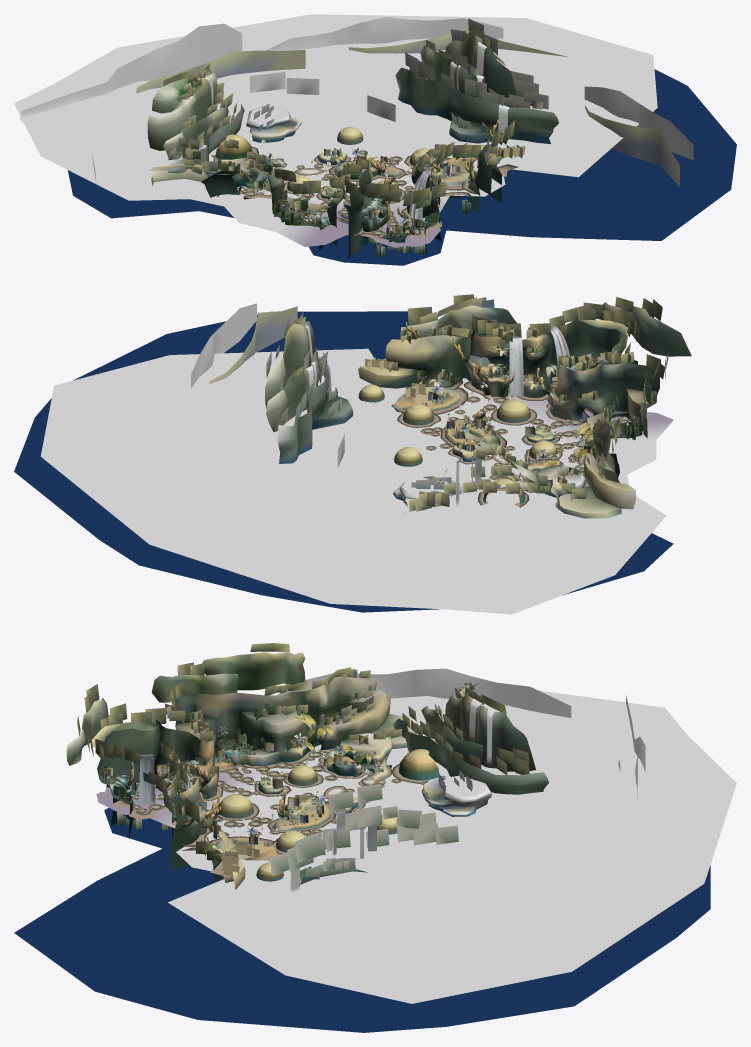
File: DJAct2.gltf
The picture shows the model from 3 angles, top to bottom: view 1: azimuth 30°, elevation 25°; view 2: azimuth 150°, elevation 25°; view 3: azimuth 270°, elevation 25°; orthographic projection. The views are drawn at different scales.
Parts seen in each view (by area): view 1: stg021_w_Mesh_0, stg021_o_Mesh_45, stg021_o_Mesh_16, stg021_p_Mesh_245, stg021_p_Mesh_171, stg021_ripple_k_Mesh_3, stg021_p_Mesh_122, stg021_falls_w_Mesh_6, stg021_o_Mesh_11, stg021_p_Mesh_138, stg021_p_Mesh_11, stg021_o_Mesh_27 (+8 smaller); view 2: stg021_w_Mesh_0, stg021_o_Mesh_16, stg021_o_Mesh_45, stg021_p_Mesh_171, stg021_p_Mesh_245, stg021_ripple_k_Mesh_3, stg021_falls_w_Mesh_6, stg021_o_Mesh_11, stg021_p_Mesh_11, stg021_o_Mesh_4, stg021_p_Mesh_138, stg021_p_Mesh_247 (+4 smaller); view 3: stg021_w_Mesh_0, stg021_o_Mesh_45, stg021_o_Mesh_16, stg021_p_Mesh_171, stg021_p_Mesh_245, stg021_ripple_k_Mesh_3, stg021_falls_w_Mesh_6, stg021_o_Mesh_11, stg021_p_Mesh_11, stg021_p_Mesh_247, stg021_o_Mesh_4, stg021_p_Mesh_138 (+5 smaller).
Boxes of the visible parts, x1,y1,x2,y2 form: stg021_w_Mesh_0: (14, 14, 657, 247); stg021_o_Mesh_45: (68, 69, 736, 265); stg021_o_Mesh_16: (147, 29, 558, 258); stg021_p_Mesh_245: (20, 17, 693, 187); stg021_p_Mesh_171: (168, 18, 548, 225); stg021_ripple_k_Mesh_3: (211, 146, 518, 241); stg021_p_Mesh_122: (250, 72, 395, 121); stg021_falls_w_Mesh_6: (205, 42, 509, 219); stg021_o_Mesh_11: (215, 131, 496, 197); stg021_p_Mesh_138: (199, 66, 542, 232); stg021_p_Mesh_11: (240, 155, 470, 235); stg021_o_Mesh_27: (369, 119, 503, 234); stg021_w_Mesh_0: (40, 348, 673, 614); stg021_o_Mesh_16: (265, 302, 691, 518); stg021_o_Mesh_45: (14, 311, 673, 612); stg021_p_Mesh_171: (266, 294, 668, 511); stg021_p_Mesh_245: (191, 303, 297, 388); stg021_ripple_k_Mesh_3: (392, 377, 594, 507); stg021_falls_w_Mesh_6: (304, 325, 572, 505); stg021_o_Mesh_11: (358, 389, 557, 504); stg021_p_Mesh_11: (429, 347, 616, 471); stg021_o_Mesh_4: (362, 384, 553, 485); stg021_p_Mesh_138: (315, 349, 626, 488); stg021_p_Mesh_247: (423, 381, 587, 486); stg021_w_Mesh_0: (96, 690, 736, 1003); stg021_o_Mesh_45: (14, 682, 710, 1032); stg021_o_Mesh_16: (66, 652, 548, 889); stg021_p_Mesh_171: (77, 662, 529, 881); stg021_p_Mesh_245: (277, 668, 645, 799); stg021_ripple_k_Mesh_3: (112, 747, 445, 882); stg021_falls_w_Mesh_6: (138, 698, 494, 891); stg021_o_Mesh_11: (218, 756, 439, 881); stg021_p_Mesh_11: (110, 714, 371, 852); stg021_p_Mesh_247: (133, 751, 399, 836); stg021_o_Mesh_4: (222, 749, 433, 871); stg021_p_Mesh_138: (102, 720, 416, 870).
Size of the model in its own units: 876 by 172 by 824.
